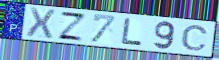7: (91, 13, 117, 44)
9: (152, 20, 176, 51)
C: (180, 24, 210, 52)
L: (121, 17, 144, 48)
X: (25, 6, 57, 40)
Z: (56, 10, 88, 43)
